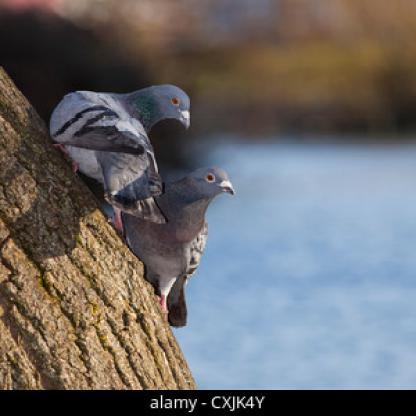Rock Pigeon: (50, 81, 238, 333)
